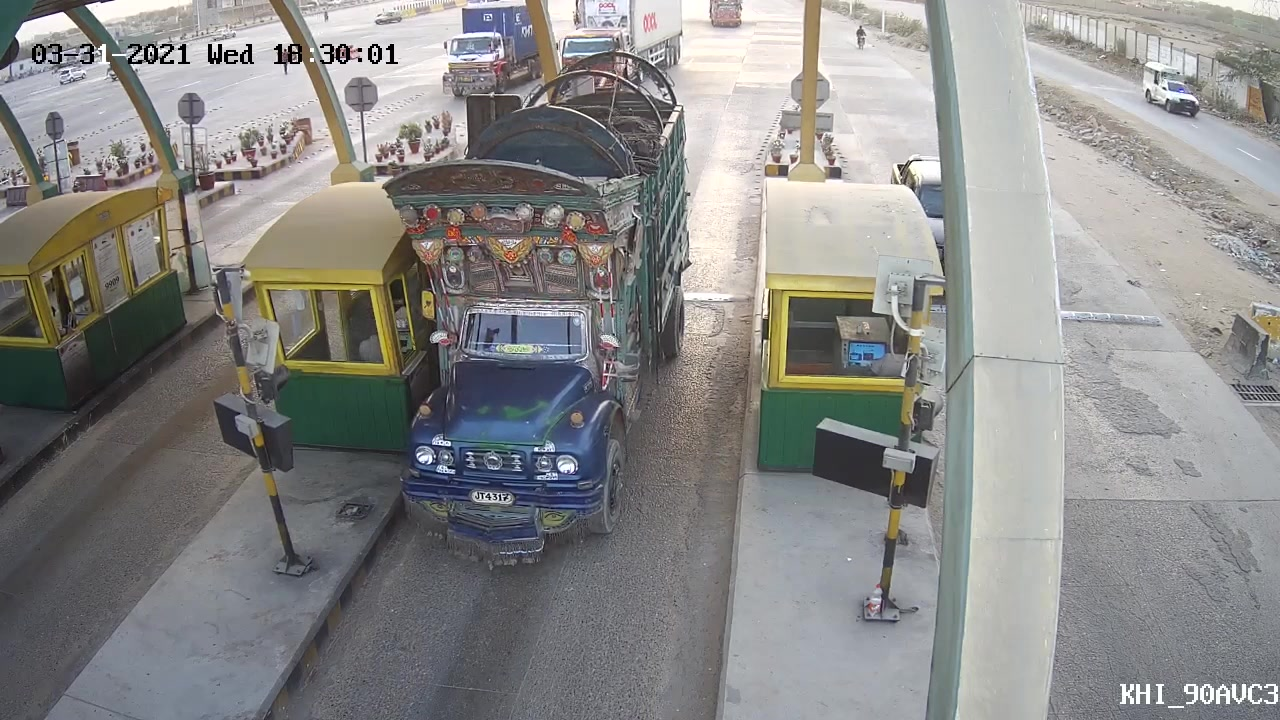F5: (383, 52, 696, 570)
